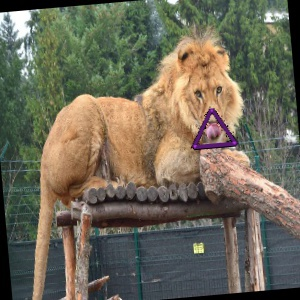triangle: (191, 107, 241, 151)
